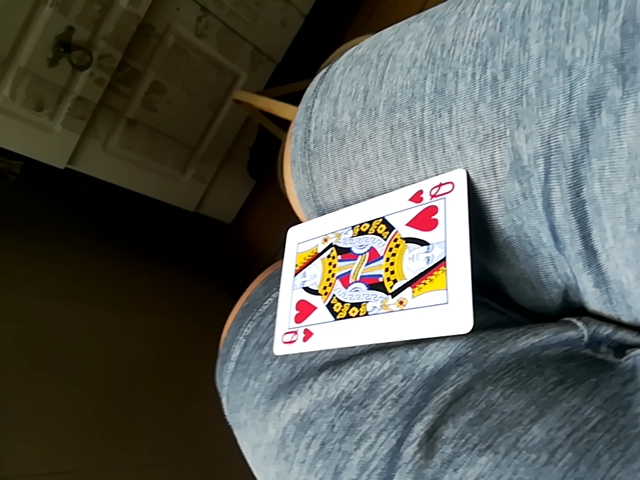hx q: (276, 175, 476, 357)
